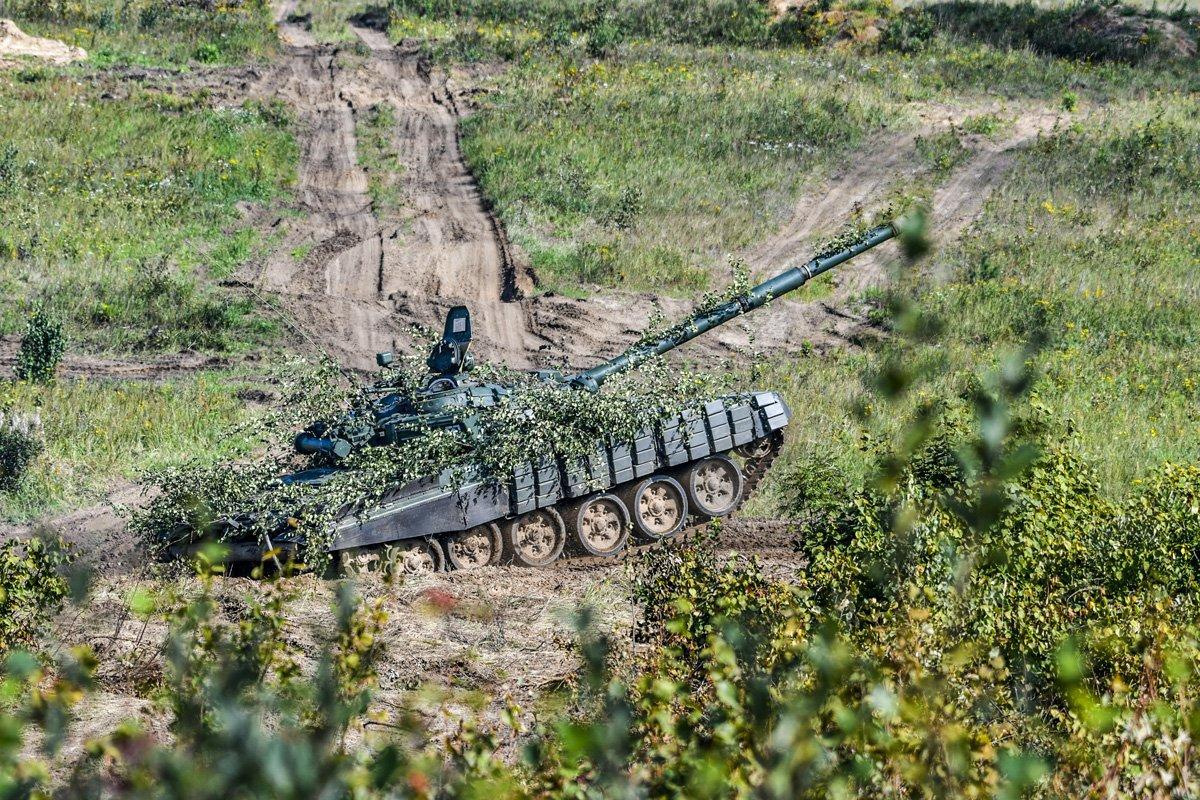tank: (153, 212, 900, 583)
